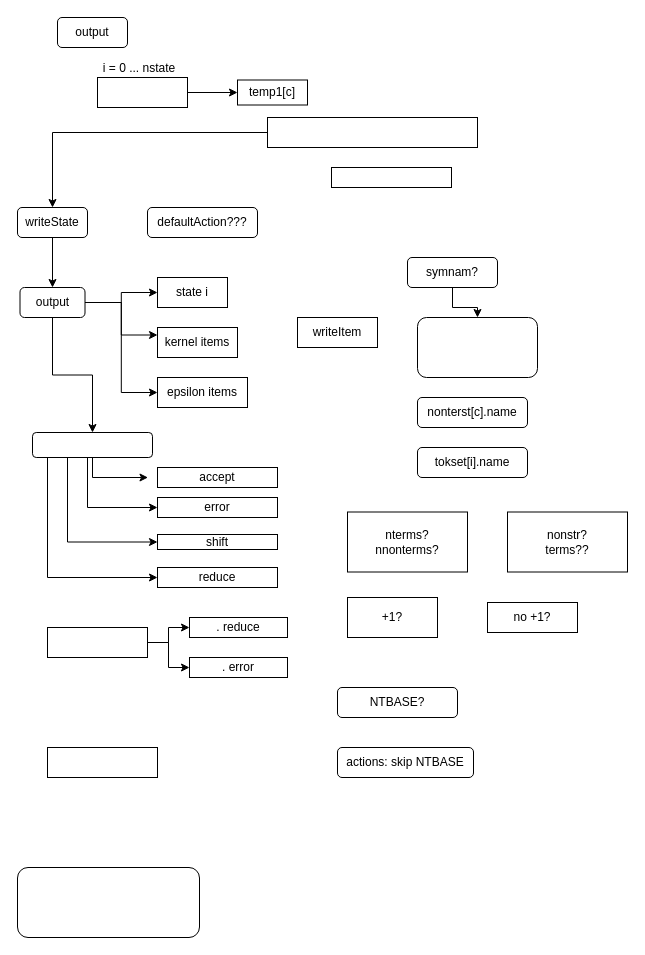
The diagram is 645 pixels wide and 955 high, and some of its shapes have lost their labels. Each missing label, with the centre of its shape:
closure(i): point (142, 92)
default reduction: point (97, 642)
i == 1, temp1[1] = ACCEPTCODE: point (372, 132)
NECESSARY???: point (391, 177)
non-term transitions: point (92, 445)
non-terminal gotos: point (102, 762)
problems: trans has 0 NTBASE -> termN what are the symbols???: point (108, 902)
symbol.name???: point (477, 347)
